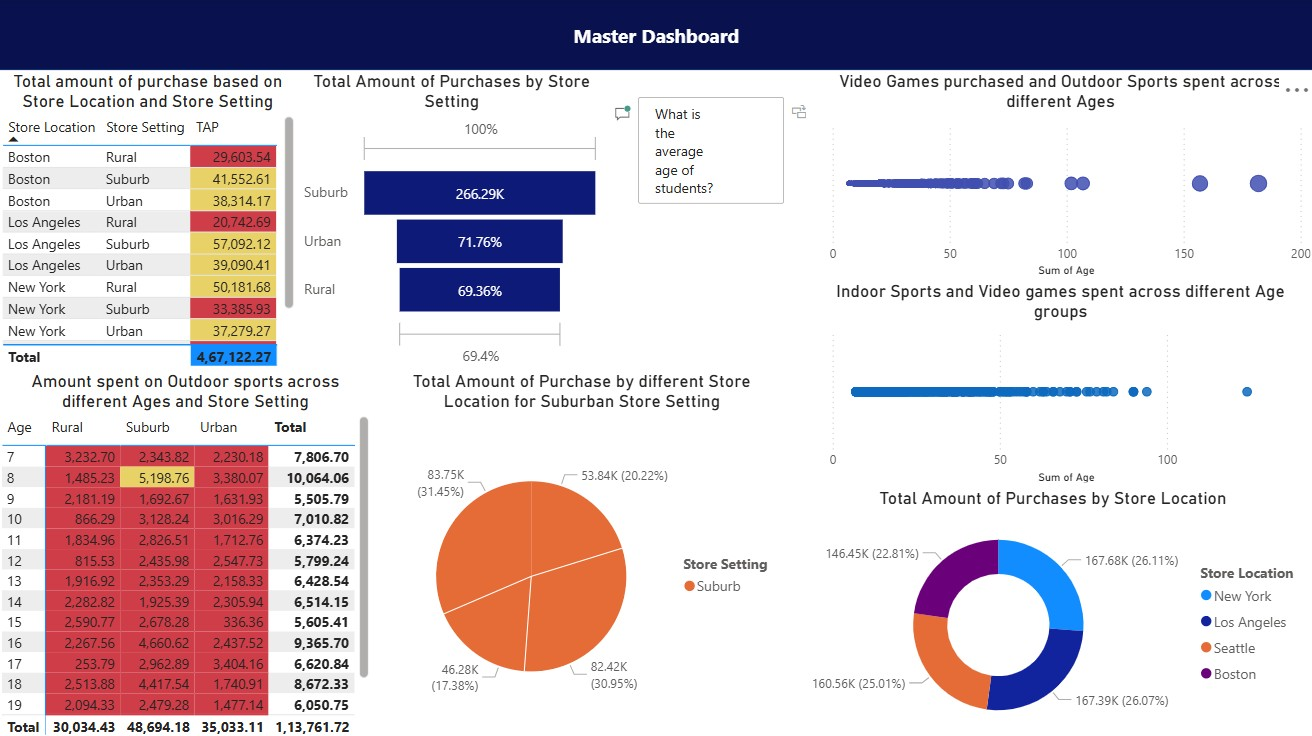

This screenshot's page, from the dashboard's own definition file:
{"tool":"powerbi","page":{"name":"Page 1","canvas":[1280,720],"ordinal":0},"visuals":[{"type":"tableEx","title":"Total amount of purchase based on Store Location and Store Setting","fields":{"Values":["Student Survey.Store Location","Student Survey.Store Setting","Student Survey.TAP"]},"box":[0,69.6,292.9,291.2],"z":0},{"type":"pivotTable","title":"Amount spent on Outdoor sports across different Ages and Store Setting","fields":{"Values":["Student Survey.Amount spent on Outdoor sports"],"Columns":["Student Survey.Store Setting"],"Rows":["Student Survey.Age"]},"box":[0,360.8,365.7,359.2],"z":1000},{"type":"funnel","title":"Total Amount of Purchases by Store Setting","fields":{"Category":["Student Survey.Store Setting"],"Y":["Sum(Student Survey.Total Amount of Purchases)"]},"box":[292.9,69.6,297.7,291.2],"z":2000},{"type":"pieChart","title":"Total Amount of Purchase by different Store Location for Suburban Store Setting","fields":{"Category":["Student Survey.Store Setting"],"Y":["Sum(Student Survey.Total Amount of Purchases)"],"Series":["Student Survey.Store Location"]},"box":[365.7,360.8,404.5,359.2],"z":3000},{"type":"scatterChart","title":"Video Games purchased and Outdoor Sports spent across different Ages","fields":{"Size":["Sum(Student Survey.Age)"],"Category":["Student Survey.VideoGames","Student Survey.OutDoor SportKits"],"X":["Sum(Student Survey.Age)"]},"box":[784.7,69.6,495.1,203.9],"z":4000},{"type":"scatterChart","title":"Indoor Sports and Video games spent across different Age groups","fields":{"Category":["Student Survey.InDoor SportKits","Student Survey.VideoGames"],"X":["Sum(Student Survey.Age)"]},"box":[784.7,273.4,495.1,200.6],"z":5000},{"type":"qnaVisual","box":[590.6,69.6,194.2,291.2],"z":6000},{"type":"donutChart","title":"Total Amount of Purchases by Store Location","fields":{"Category":["Student Survey.Store Location"],"Y":["Sum(Student Survey.Total Amount of Purchases)"]},"box":[770.2,474.1,509.7,245.9],"z":7000},{"type":"shape","box":[0,0,1279.8,69.6],"z":8000}]}

Visuals, with their boxes in screenshot pixels (x1, y1, x2, y2), scaled from the page's 1280x720 canvas onto the 1312x736 screenshot:
"Total amount of purchase based on Store Location and Store Setting" tableEx: 0, 71, 300, 369
"Amount spent on Outdoor sports across different Ages and Store Setting" pivotTable: 0, 369, 375, 735
"Total Amount of Purchases by Store Setting" funnel: 300, 71, 605, 369
"Total Amount of Purchase by different Store Location for Suburban Store Setting" pieChart: 375, 369, 789, 735
"Video Games purchased and Outdoor Sports spent across different Ages" scatterChart: 804, 71, 1311, 280
"Indoor Sports and Video games spent across different Age groups" scatterChart: 804, 279, 1311, 485
qnaVisual: 605, 71, 804, 369
"Total Amount of Purchases by Store Location" donutChart: 789, 485, 1311, 735
shape: 0, 0, 1311, 71
